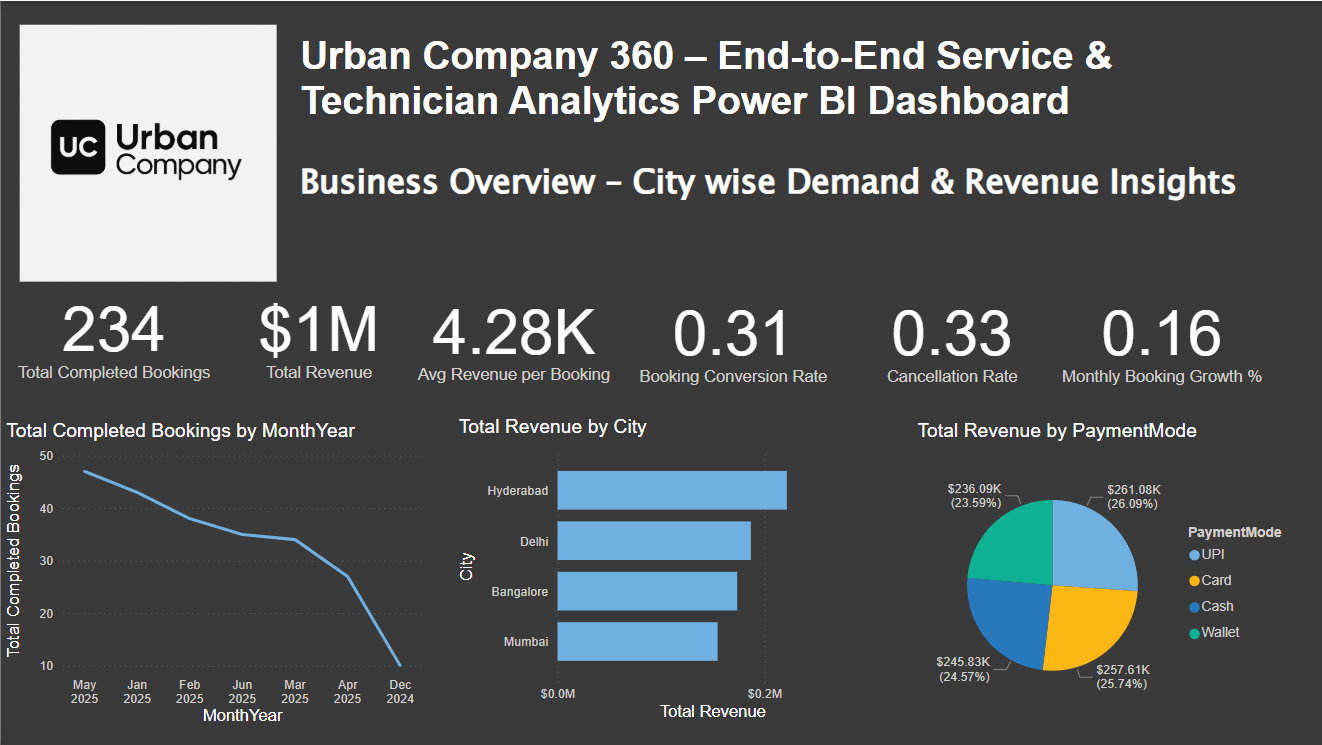

The page's visual inventory and layout, read from the dashboard file:
{"tool":"powerbi","page":{"name":"Business Overview","canvas":[1280,720],"ordinal":0},"visuals":[{"type":"card","fields":{"Values":["bookings.Total Completed Bookings"]},"box":[10.9,258.2,196.6,125.5],"z":0},{"type":"card","fields":{"Values":["payments.Total Revenue"]},"box":[218.4,258.2,177.3,125.5],"z":1000},{"type":"card","fields":{"Values":["bookings.Avg Revenue per Booking"]},"box":[395.7,258.2,199.1,130.3],"z":2000},{"type":"textbox","box":[283.5,26.5,966.4,231.6],"z":3000},{"type":"card","fields":{"Values":["bookings.Booking Conversion Rate"]},"box":[605.6,261.8,202.7,126.7],"z":4000},{"type":"card","fields":{"Values":["bookings.Cancellation Rate"]},"box":[832.4,276.3,171.3,97.7],"z":5000},{"type":"card","fields":{"Values":["DateTable.Monthly Booking Growth %"]},"box":[1025.5,258.2,234,125.5],"z":6000},{"type":"lineChart","fields":{"Category":["DateTable.MonthYear"],"Y":["bookings.Total Completed Bookings"]},"box":[0,404.2,413.8,299.2],"z":7000},{"type":"clusteredBarChart","fields":{"Category":["bookings.City"],"Y":["payments.Total Revenue"]},"box":[436.7,400.5,422.3,299.2],"z":8000},{"type":"image","box":[10.9,18.1,263,258.2],"z":9000},{"type":"pieChart","fields":{"Category":["payments.PaymentMode"],"Y":["payments.Total Revenue"]},"box":[879.5,404.2,380,299.2],"z":10000}]}

Visuals, with their boxes in screenshot pixels (x1, y1, x2, y2), scaled from the page's 1280x720 canvas onto the 1322x745 screenshot:
card - bookings.Total Completed Bookings: (11, 267, 214, 397)
card - payments.Total Revenue: (226, 267, 409, 397)
card - bookings.Avg Revenue per Booking: (409, 267, 614, 402)
textbox: (293, 27, 1291, 267)
card - bookings.Booking Conversion Rate: (625, 271, 835, 402)
card - bookings.Cancellation Rate: (860, 286, 1037, 387)
card - DateTable.Monthly Booking Growth %: (1059, 267, 1301, 397)
lineChart - DateTable.MonthYear x bookings.Total Completed Bookings: (0, 418, 427, 728)
clusteredBarChart - bookings.City x payments.Total Revenue: (451, 414, 887, 724)
image: (11, 19, 283, 286)
pieChart - payments.PaymentMode x payments.Total Revenue: (908, 418, 1301, 728)
